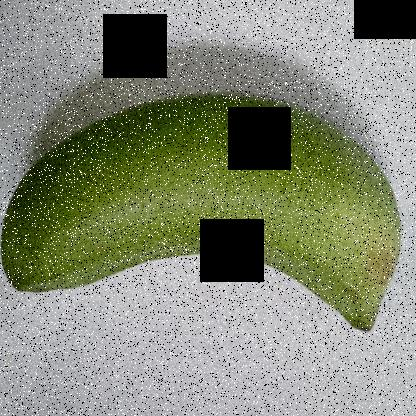freshunripe: (1, 77, 412, 350)
